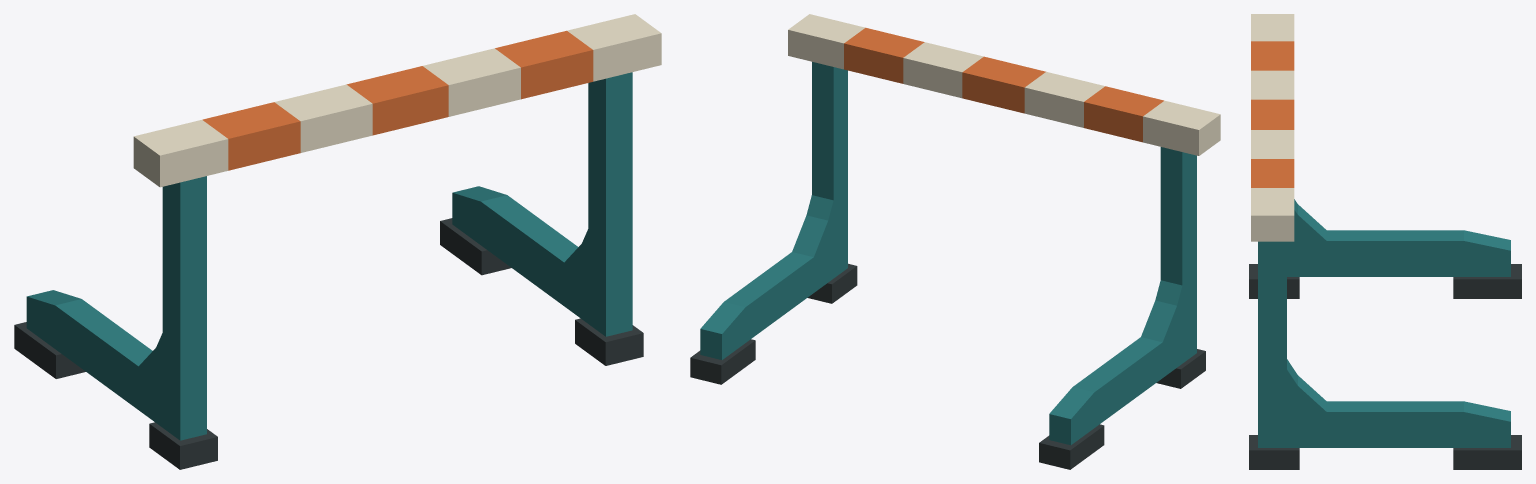
3 views of the same model, side by side, from view 1: azimuth 30°, elevation 25°; view 2: azimuth 150°, elevation 25°; view 3: azimuth 270°, elevation 25° (orthographic). The views are drawn at different scales.
Parts seen in each view (by area): view 1: WholeStripedHurdleCrossbar, RightIntegralLFrame, LeftIntegralLFrame, RightFrontGroundPad, LeftFrontGroundPad, LeftRearGroundPad, RightRearGroundPad; view 2: WholeStripedHurdleCrossbar, LeftIntegralLFrame, RightIntegralLFrame, LeftRearGroundPad, RightRearGroundPad, RightFrontGroundPad, LeftFrontGroundPad; view 3: RightIntegralLFrame, LeftIntegralLFrame, WholeStripedHurdleCrossbar, LeftRearGroundPad, RightRearGroundPad, RightFrontGroundPad, LeftFrontGroundPad.
Boxes of the visible parts, <box> form: WholeStripedHurdleCrossbar: <box>133,14,661,187</box>; RightIntegralLFrame: <box>452,72,632,336</box>; LeftIntegralLFrame: <box>26,176,206,440</box>; RightFrontGroundPad: <box>575,318,643,365</box>; LeftFrontGroundPad: <box>149,422,217,469</box>; LeftRearGroundPad: <box>14,322,85,378</box>; RightRearGroundPad: <box>440,218,511,275</box>; WholeStripedHurdleCrossbar: <box>788,14,1220,155</box>; LeftIntegralLFrame: <box>1049,147,1196,445</box>; RightIntegralLFrame: <box>700,62,847,359</box>; LeftRearGroundPad: <box>1039,424,1104,469</box>; RightRearGroundPad: <box>690,339,755,384</box>; RightFrontGroundPad: <box>807,263,857,303</box>; LeftFrontGroundPad: <box>1156,349,1205,388</box>; RightIntegralLFrame: <box>1258,241,1510,447</box>; LeftIntegralLFrame: <box>1287,199,1510,276</box>; WholeStripedHurdleCrossbar: <box>1251,14,1294,241</box>; LeftRearGroundPad: <box>1453,264,1521,298</box>; RightRearGroundPad: <box>1453,435,1521,469</box>; RightFrontGroundPad: <box>1249,435,1299,469</box>; LeftFrontGroundPad: <box>1249,264,1299,298</box>.
Size of the model in its own units: 1.32 by 0.8 by 0.755.
